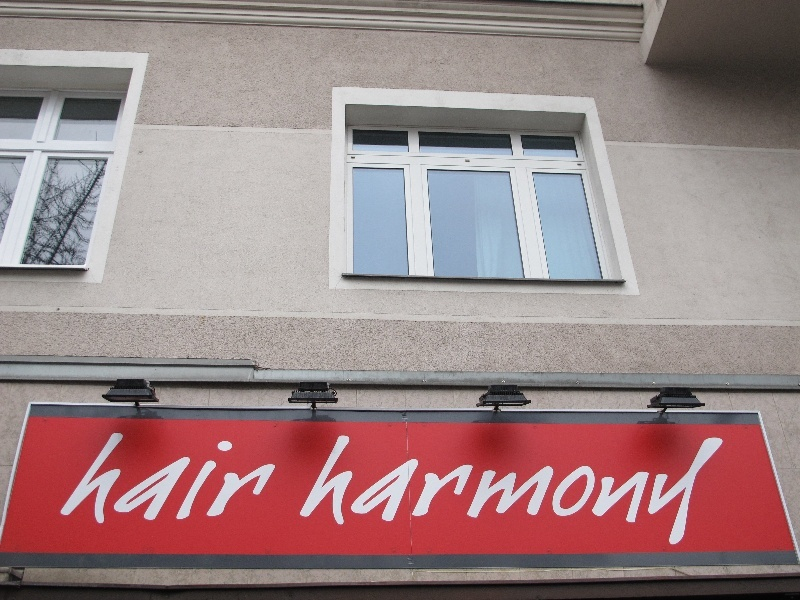text: (353, 436, 368, 547), (369, 436, 384, 547), (385, 436, 400, 547), (401, 436, 416, 547), (417, 436, 432, 547), (433, 436, 448, 547), (449, 436, 464, 547), (465, 436, 480, 547), (481, 436, 496, 547), (497, 436, 512, 547), (513, 436, 528, 547), (529, 436, 544, 547), (545, 436, 560, 547), (561, 436, 576, 547), (577, 436, 592, 547), (593, 436, 608, 547), (609, 436, 624, 547), (625, 436, 640, 547), (641, 436, 656, 547), (657, 436, 672, 547), (673, 436, 688, 547), (689, 436, 704, 547), (705, 436, 720, 547), (129, 433, 144, 529), (145, 433, 160, 529), (161, 433, 176, 529), (177, 433, 192, 529), (193, 433, 208, 529), (209, 433, 224, 529), (225, 433, 240, 529), (241, 433, 256, 529), (257, 433, 272, 529), (114, 433, 128, 529), (342, 436, 352, 547), (273, 433, 283, 529), (721, 436, 728, 547)
